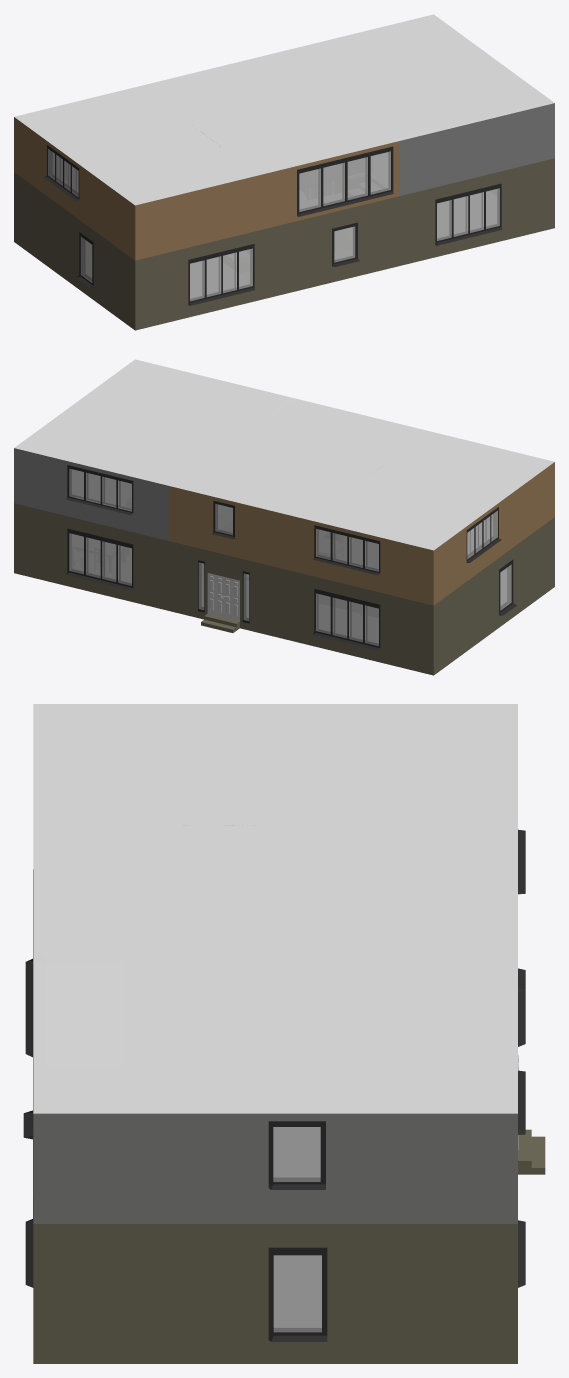
The model's file is HouseFinal.fbx.
3 views of the same model, one above another, from view 1: azimuth 30°, elevation 25°; view 2: azimuth 150°, elevation 25°; view 3: azimuth 270°, elevation 25° (orthographic). The views are drawn at different scales.
Visible parts, largest first — view 1: HouseRoof, HouseFloor1, HouseFloor2, WindowS, WindowSingle.002; view 2: HouseRoof, HouseFloor1, HouseFloor2, WindowN, WindowSingle.002, DoubleDoors, WindowSingle.004; view 3: HouseRoof, HouseFloor1, HouseFloor2, WindowSingle.003, WindowSingle.000, WindowN, WindowS.
Part boxes in pixels (<box>): HouseRoof: <box>14,14,554,205</box>; HouseFloor1: <box>14,158,554,330</box>; HouseFloor2: <box>14,103,554,260</box>; WindowS: <box>188,146,502,305</box>; WindowSingle.002: <box>44,145,93,288</box>; HouseRoof: <box>14,359,554,550</box>; HouseFloor1: <box>14,503,554,675</box>; HouseFloor2: <box>14,448,554,605</box>; WindowN: <box>66,465,380,650</box>; WindowSingle.002: <box>466,507,517,615</box>; DoubleDoors: <box>207,573,239,621</box>; WindowSingle.004: <box>242,571,249,623</box>; HouseRoof: <box>33,704,517,1113</box>; HouseFloor1: <box>33,1129,545,1363</box>; HouseFloor2: <box>33,825,517,1223</box>; WindowSingle.003: <box>268,1247,327,1341</box>; WindowSingle.000: <box>268,1121,325,1189</box>; WindowN: <box>518,829,525,1287</box>; WindowS: <box>23,869,33,1287</box>.
Size of the model in its own units: 3263 by 912 by 1722.
